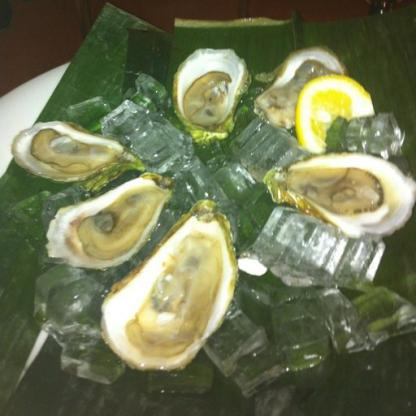oyster: (103, 204, 233, 372), (268, 148, 414, 234), (41, 173, 162, 270), (259, 48, 358, 141), (15, 122, 142, 188), (174, 53, 255, 150)
